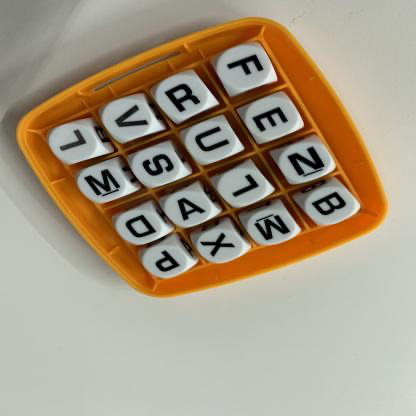a: (165, 191, 213, 227)
b: (304, 187, 357, 226)
d: (116, 210, 165, 245)
e: (246, 98, 299, 140)
f: (217, 46, 272, 90)
l: (218, 168, 269, 208), (49, 124, 100, 163)
m: (78, 165, 129, 203), (248, 210, 296, 246)
n: (280, 144, 332, 183)
p: (143, 245, 189, 280)
r: (157, 75, 210, 119)
s: (133, 147, 182, 186)
u: (185, 122, 239, 162)
v: (103, 98, 153, 140)
x: (197, 229, 245, 264)
